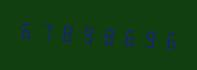eight: (97, 19, 116, 51), (57, 17, 76, 48)
nine: (137, 22, 156, 54), (77, 18, 96, 49)
seven: (37, 15, 56, 47)
six: (17, 14, 36, 45), (117, 21, 136, 52), (157, 24, 176, 55)
